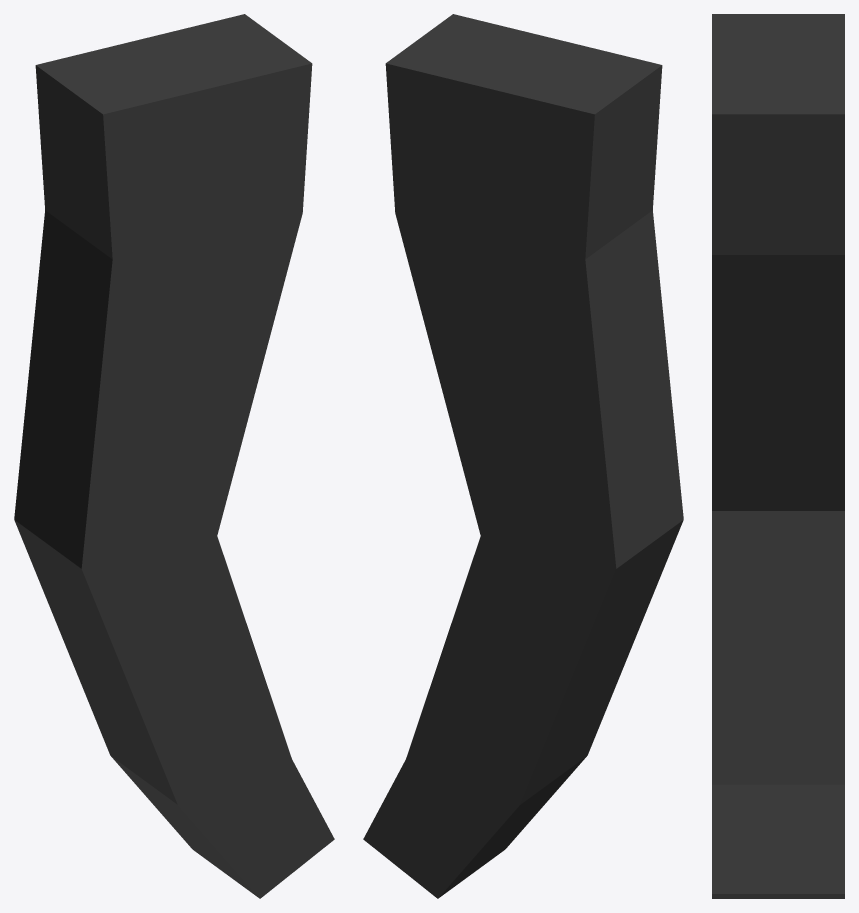
The model's file is SMG2_05_3.fbx.
The picture shows the model from 3 angles, left to right: view 1: azimuth 30°, elevation 25°; view 2: azimuth 150°, elevation 25°; view 3: azimuth 270°, elevation 25°; orthographic projection.
Visible parts, largest first — view 1: SMG2_05_3; view 2: SMG2_05_3; view 3: SMG2_05_3.
Part boxes in pixels (<box>): SMG2_05_3: <box>14,14,334,898</box>; SMG2_05_3: <box>363,14,683,898</box>; SMG2_05_3: <box>712,14,844,898</box>.
Bounding box in the file's own units: 0.0106 × 0.0328 × 0.00487.
